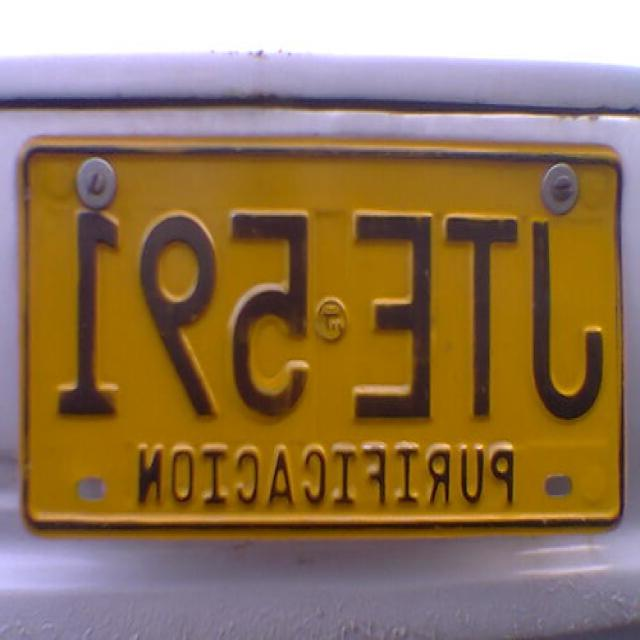placas: (40, 203, 624, 449)
